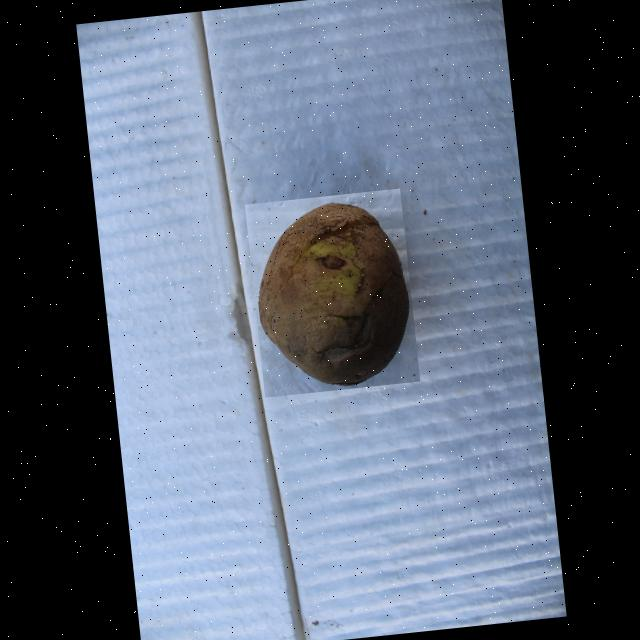Diseased-fungal potato: (244, 188, 418, 397)
